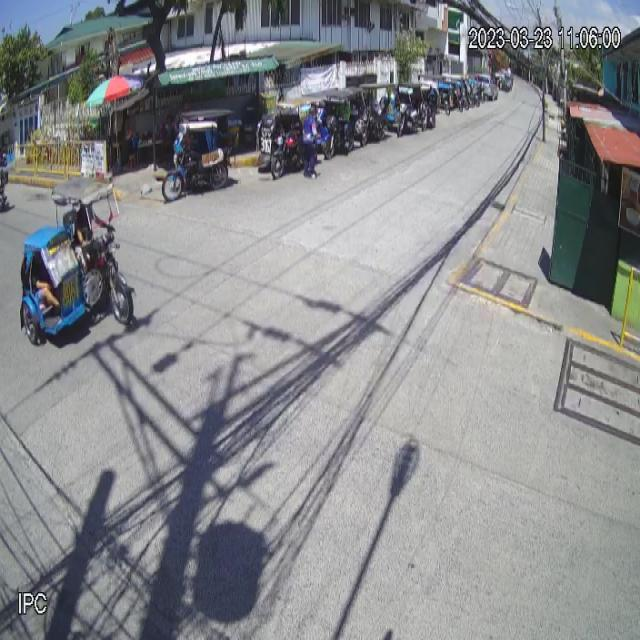Tricycle: (20, 174, 134, 346)
